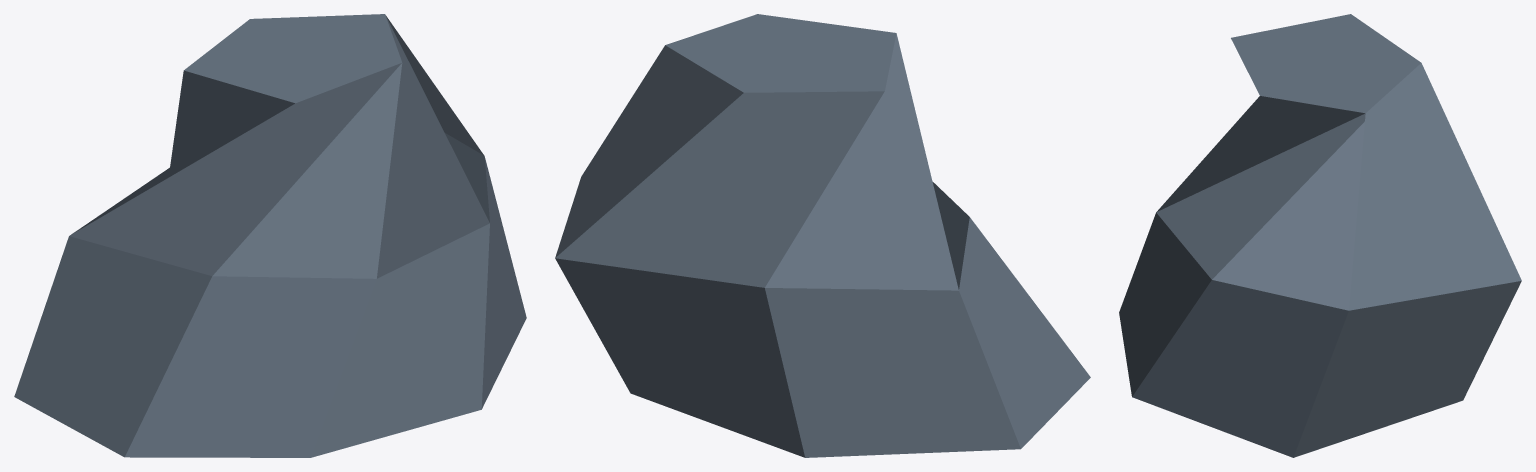
File: ROCK_Glacial_02_MediumRock.fbx
3 renders of one model, left to right at view 1: azimuth 30°, elevation 25°; view 2: azimuth 150°, elevation 25°; view 3: azimuth 270°, elevation 25°, orthographic. The views are drawn at different scales.
Visible parts, largest first — view 1: ROCK_Glacial_02_MediumRock; view 2: ROCK_Glacial_02_MediumRock; view 3: ROCK_Glacial_02_MediumRock.
Boxes of the visible parts, x1,y1,x2,y2 form: ROCK_Glacial_02_MediumRock: [14, 14, 526, 457]; ROCK_Glacial_02_MediumRock: [555, 14, 1090, 457]; ROCK_Glacial_02_MediumRock: [1119, 14, 1521, 457].
Bounding box in the file's own units: 202 × 126 × 156.
